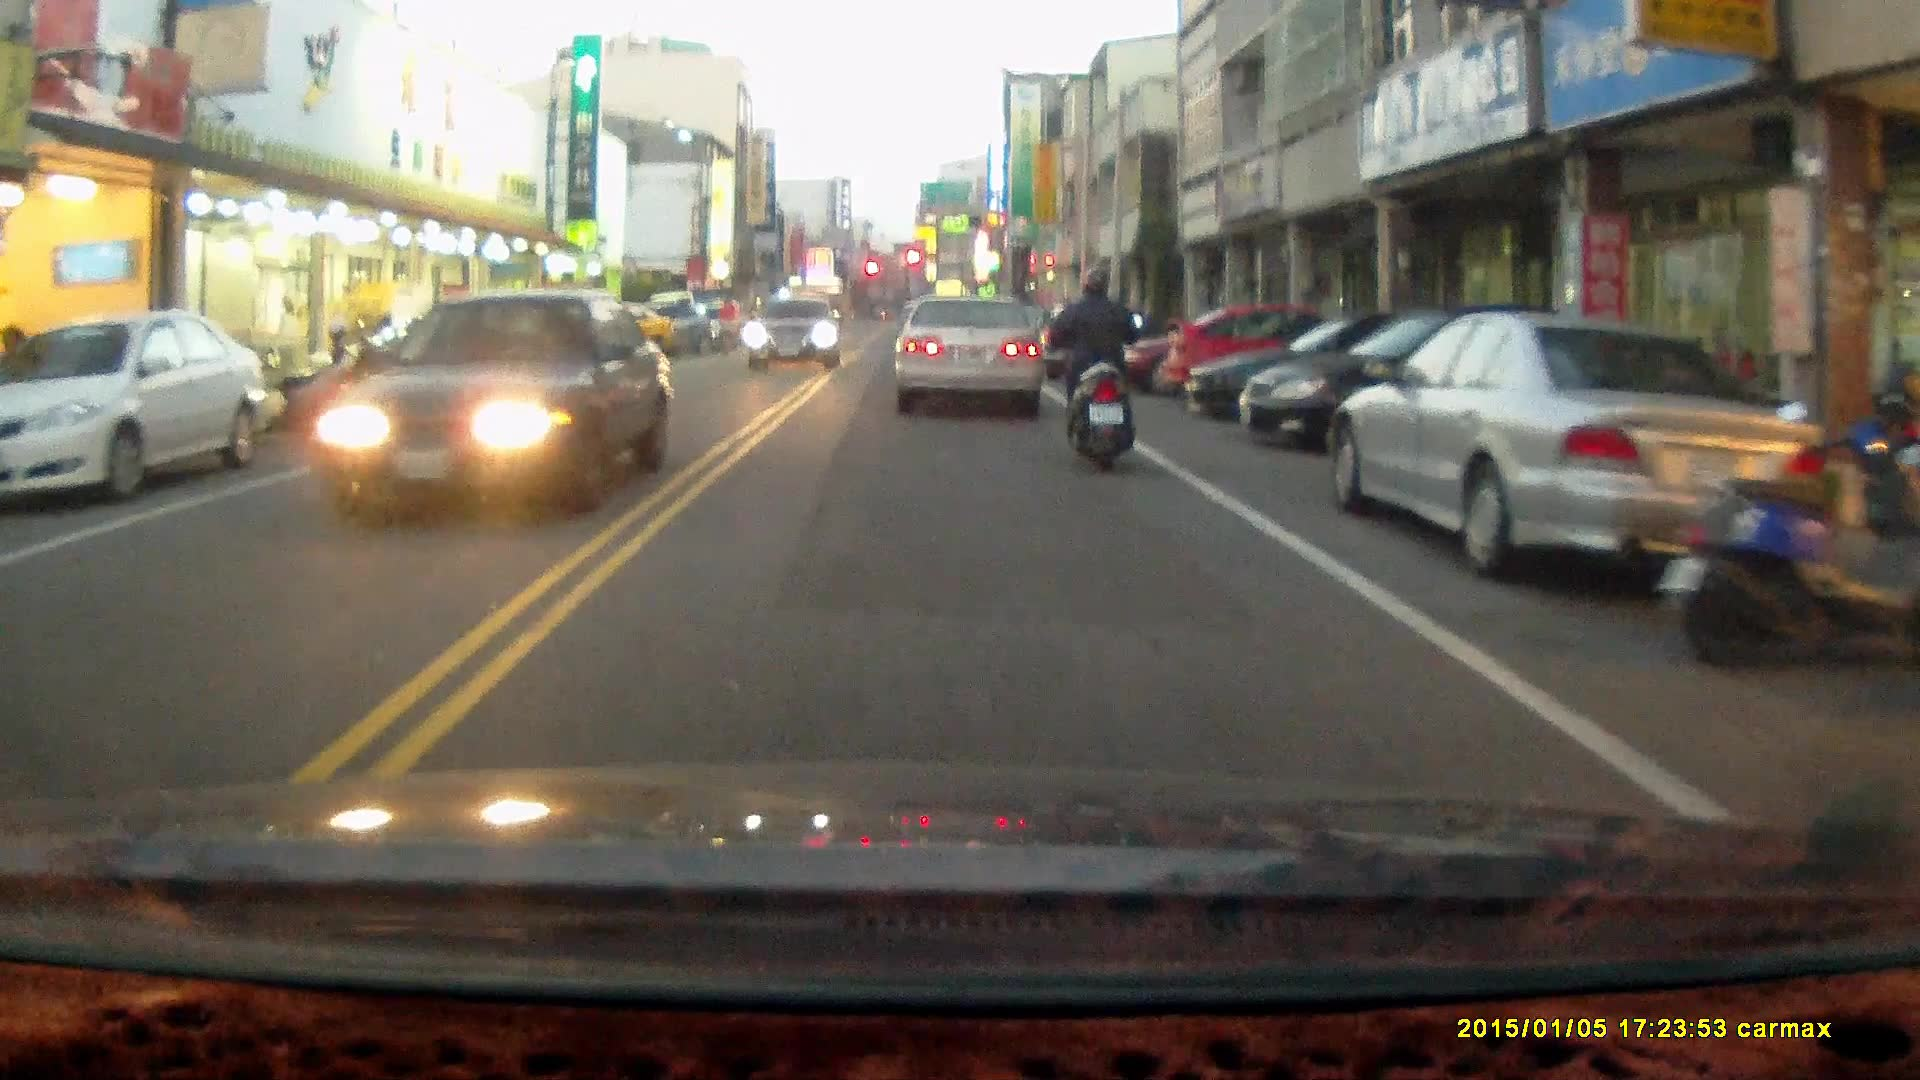pedestrian: (273, 296, 303, 370)
rider: (1045, 261, 1145, 470), (712, 291, 738, 356)
vehicle: (1334, 307, 1837, 583), (309, 287, 674, 521), (0, 313, 283, 512), (1235, 301, 1606, 445), (1179, 308, 1529, 426), (1159, 298, 1412, 399), (893, 295, 1046, 417), (742, 294, 843, 368)
